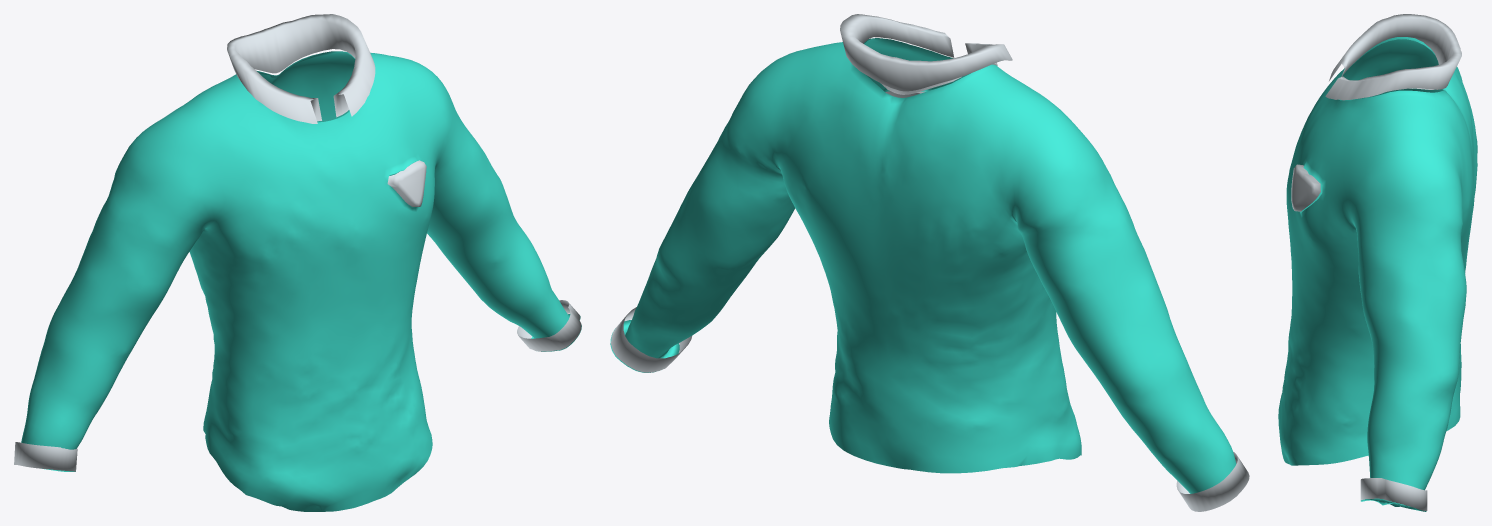
The model's file is Male-Medium-shirtWithAbbi.glb.
The picture shows the model from 3 angles, left to right: view 1: azimuth 30°, elevation 25°; view 2: azimuth 150°, elevation 25°; view 3: azimuth 270°, elevation 25°; orthographic projection. The views are drawn at different scales.
Parts seen in each view (by area): view 1: Group1.031; view 2: Group1.031; view 3: Group1.031.
Part boxes in pixels (bbox=[...]): Group1.031: bbox=[14, 14, 581, 511]; Group1.031: bbox=[610, 14, 1249, 511]; Group1.031: bbox=[1278, 14, 1477, 511].
Size of the model in its own units: 1.89 by 1.35 by 0.5952.
